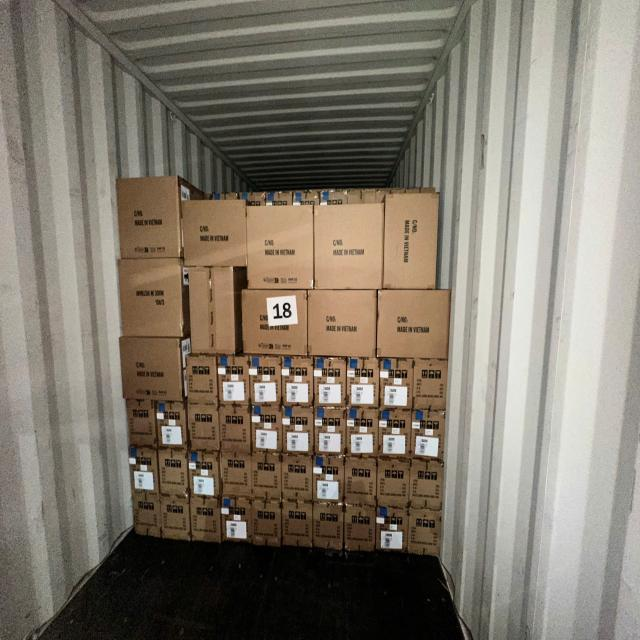Carton: (317, 203, 385, 290), (249, 207, 315, 293), (386, 194, 440, 293), (115, 176, 180, 258), (377, 290, 451, 361), (120, 260, 184, 340), (308, 290, 378, 360), (241, 291, 310, 358), (188, 268, 238, 358), (182, 198, 248, 266), (118, 335, 183, 402), (408, 457, 445, 511), (412, 410, 446, 460), (409, 506, 440, 560), (414, 358, 448, 407), (344, 459, 378, 507), (187, 353, 220, 402), (347, 357, 380, 406), (218, 354, 250, 404), (317, 356, 349, 406), (378, 358, 410, 408), (346, 408, 379, 456), (282, 356, 314, 405), (253, 354, 284, 404), (282, 407, 314, 455), (377, 410, 409, 458), (376, 460, 408, 508), (315, 507, 347, 554), (374, 510, 406, 557), (344, 506, 376, 553), (317, 408, 348, 456), (189, 405, 221, 451), (190, 454, 222, 500), (282, 457, 314, 503), (220, 497, 251, 544), (219, 407, 251, 452), (282, 507, 314, 552), (316, 458, 347, 504), (158, 494, 189, 540), (157, 452, 187, 499), (156, 404, 187, 449), (253, 456, 284, 501), (127, 403, 158, 448), (192, 497, 222, 543), (253, 506, 284, 550), (130, 450, 159, 497), (254, 407, 284, 452), (219, 456, 251, 498), (133, 492, 161, 539)
